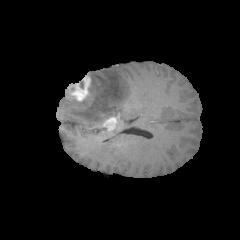glioma: (59, 66, 131, 128)
